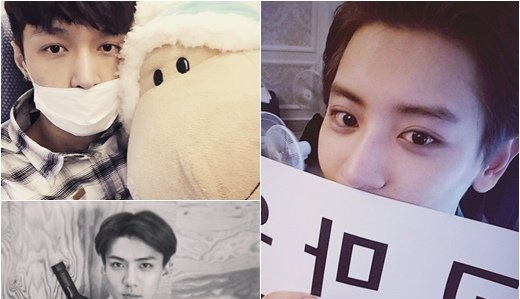face: (316, 41, 493, 238), (104, 241, 160, 298)
face_mask: (29, 10, 125, 133)
